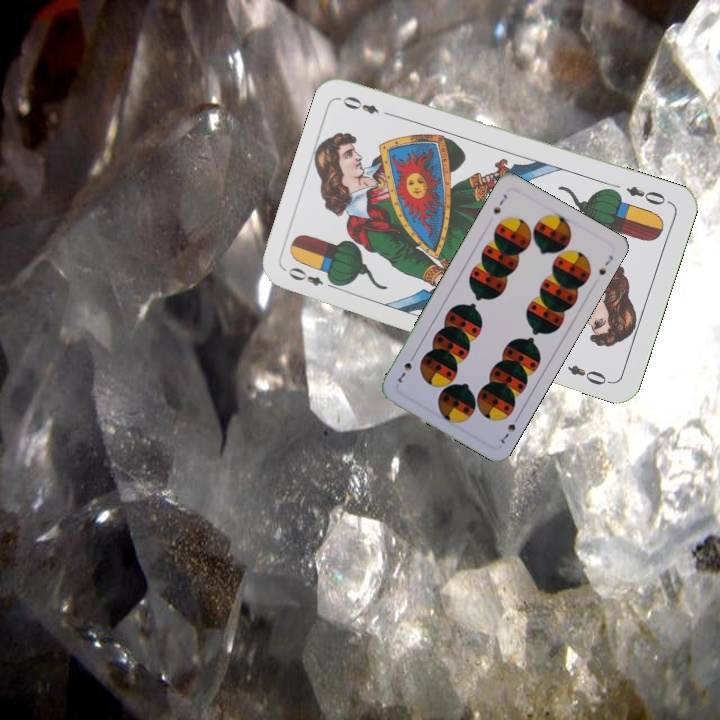EO: (284, 263, 341, 292), (622, 182, 668, 208)
S7: (496, 411, 522, 446), (489, 190, 510, 216)
